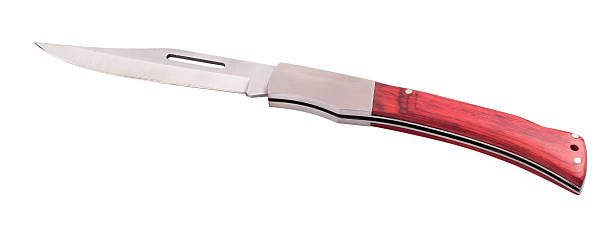knife: (32, 40, 589, 197)
